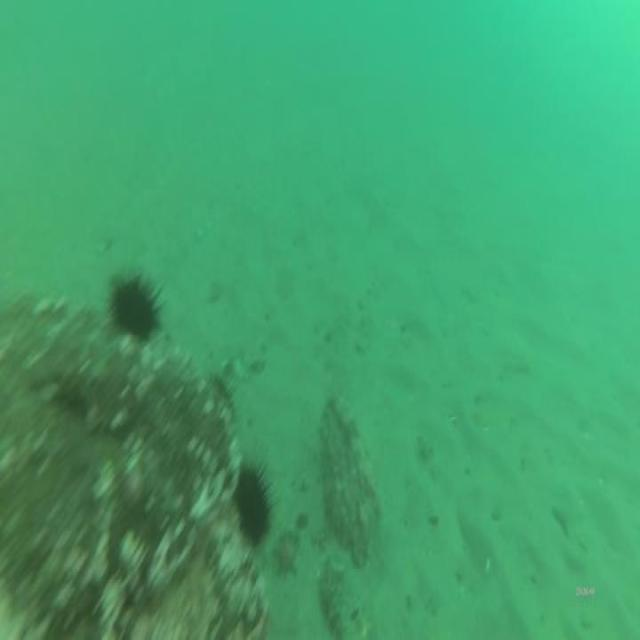echinus: (111, 272, 160, 343), (232, 461, 270, 542)
